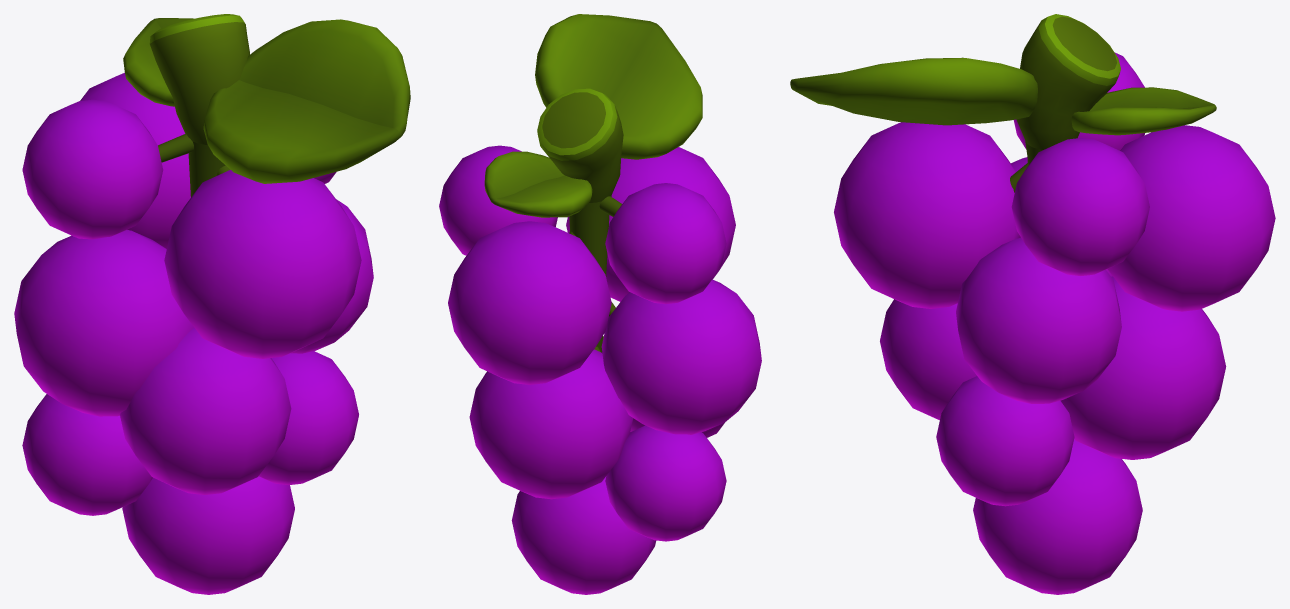
Rendered from Grape_V1_02.fbx.
3 renders of one model, left to right at view 1: azimuth 30°, elevation 25°; view 2: azimuth 150°, elevation 25°; view 3: azimuth 270°, elevation 25°, orthographic. The views are drawn at different scales.
Visible parts, largest first — view 1: Grape_V1_02; view 2: Grape_V1_02; view 3: Grape_V1_02.
Part boxes in pixels (box(x1,y1,x2,y2)): Grape_V1_02: box(14, 14, 410, 594); Grape_V1_02: box(439, 14, 761, 594); Grape_V1_02: box(790, 14, 1275, 594).
Size of the model in its own units: 28.94 by 48 by 36.79.
